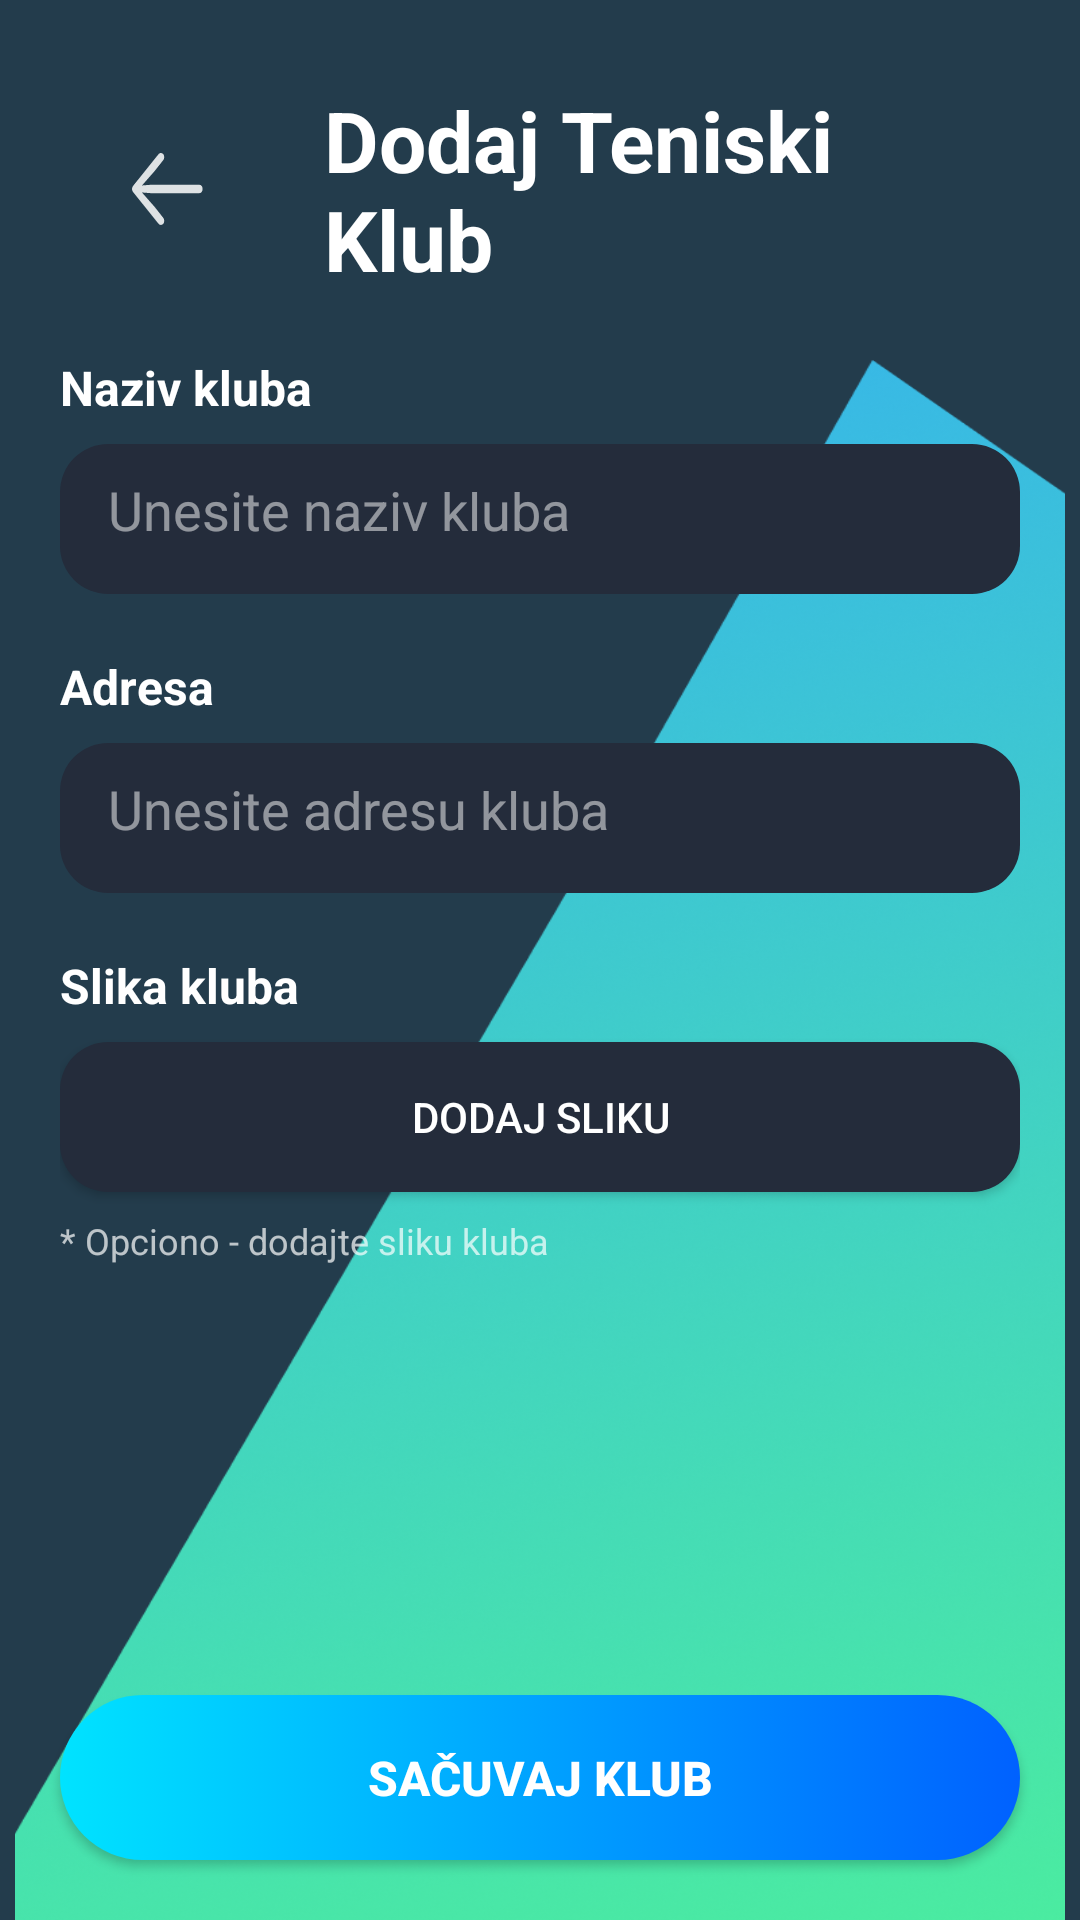

Named icons in this screenshot (1080x1920) and their bounding boxes, (x1, y1, x2, y2):
Nazad: (132, 153, 203, 225)
